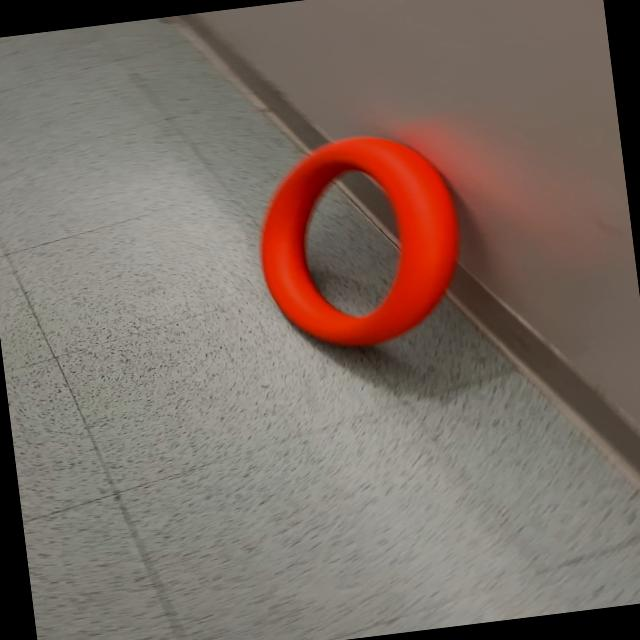note: (244, 124, 473, 358)
